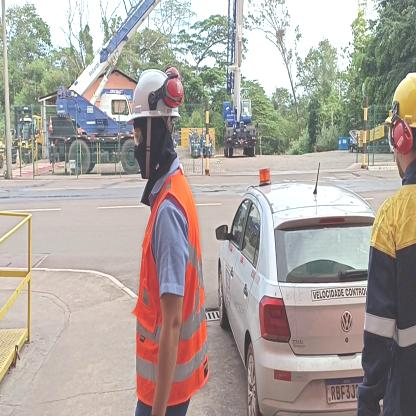Balaclava: (133, 122, 178, 179)
C_eletrica: (371, 198, 416, 416)
Capacete: (127, 70, 181, 121), (381, 78, 416, 136)
colete: (136, 183, 214, 400)
